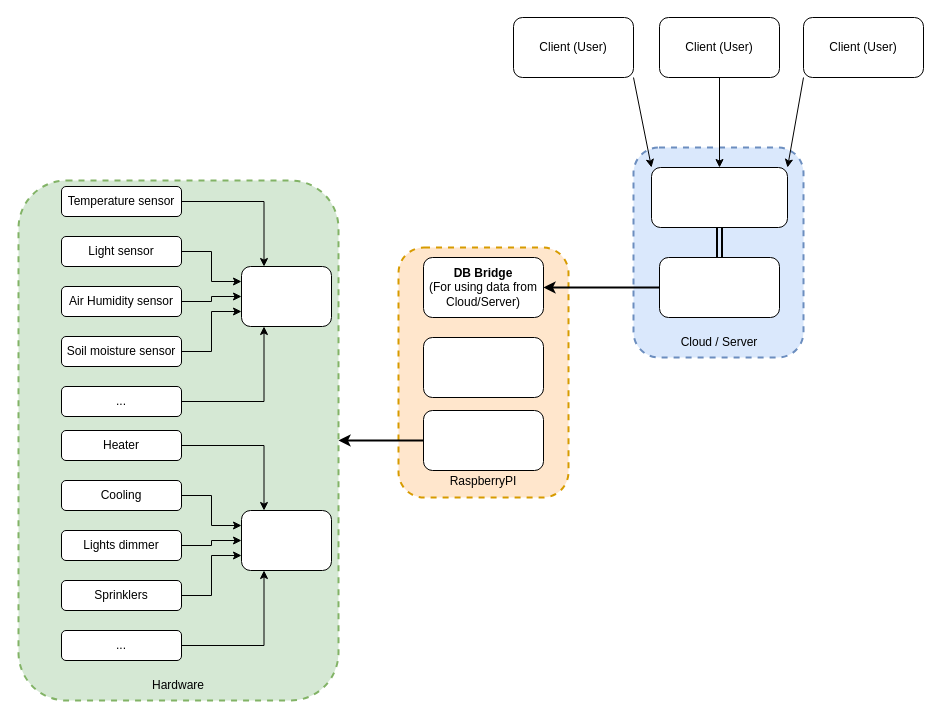
Some shapes in this 941 by 719 pixel diagram are drawn without their labels. The box of each missing label's shape, as (x1, y1, x2, y2) in pixels:
AdminBoard (Web app for declaring fuzzy system): (650, 166, 788, 228)
FuzzyLib: (422, 336, 544, 398)
Hardware Bridge (For comm with hardware layer): (422, 410, 544, 470)
MySQL Database: (658, 256, 780, 318)
Output controller: (240, 510, 332, 570)
Sensor Hub: (240, 266, 332, 326)
